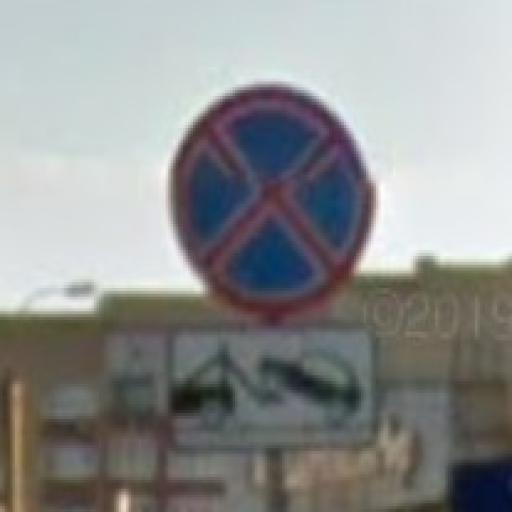traffic_sign: (167, 83, 377, 315)
